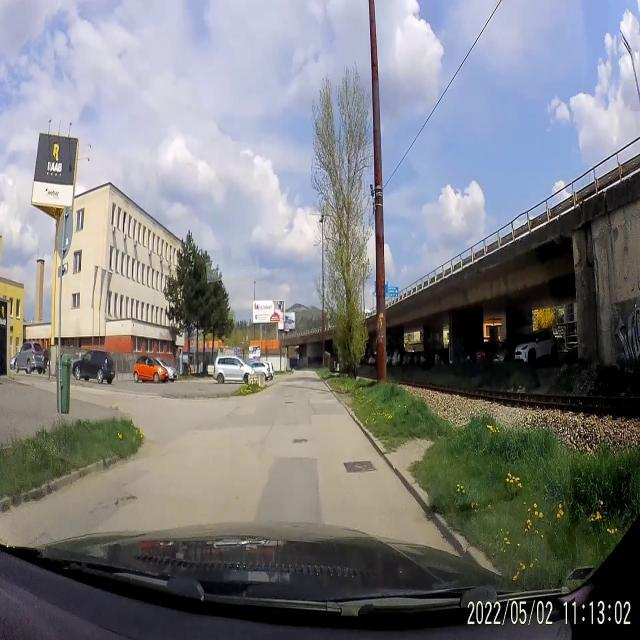Manhole: (340, 454, 378, 480)
Pothole: (114, 488, 140, 518), (280, 430, 308, 446), (284, 393, 297, 412)
